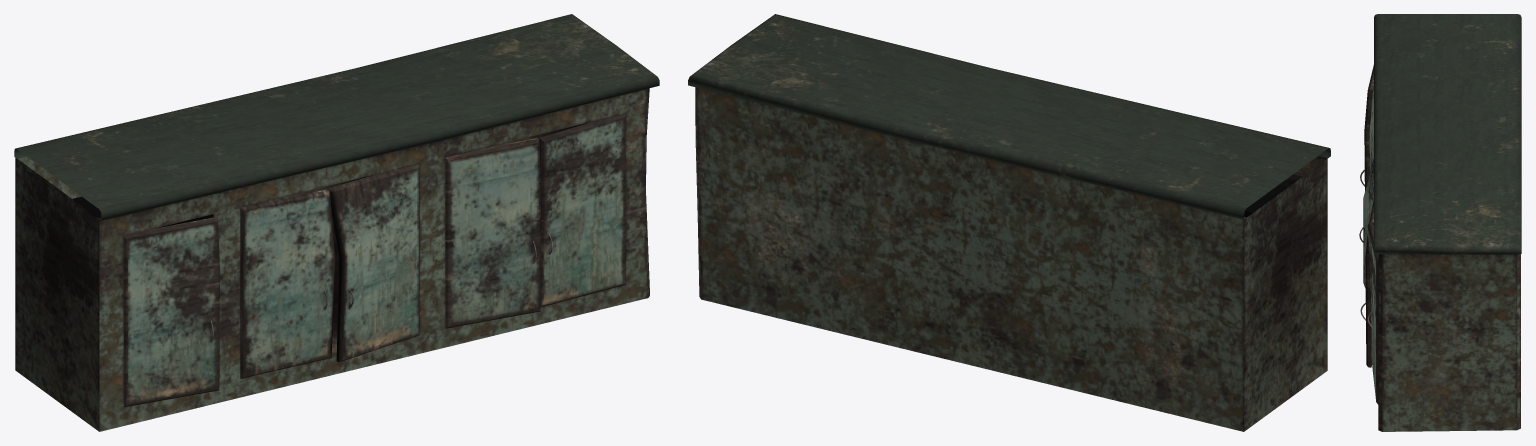
Rendered from ThreeDoorStorage.FBX.
The picture shows the model from 3 angles, left to right: view 1: azimuth 30°, elevation 25°; view 2: azimuth 150°, elevation 25°; view 3: azimuth 270°, elevation 25°; orthographic projection. The views are drawn at different scales.
Parts seen in each view (by area): view 1: ThreeDoorStorage, ThreeDoor_01, ThreeDoor_04, ThreeDoor_02, ThreeDoor_03, ThreeDoor_05; view 2: ThreeDoorStorage; view 3: ThreeDoorStorage, ThreeDoor_05, ThreeDoor_01, ThreeDoor_04, ThreeDoor_03.
Boxes of the visible parts, left/top/right/bottom form: ThreeDoorStorage: left=14, top=14, right=659, bottom=431; ThreeDoor_01: left=123, top=217, right=219, bottom=407; ThreeDoor_04: left=445, top=138, right=541, bottom=328; ThreeDoor_02: left=240, top=189, right=335, bottom=378; ThreeDoor_03: left=327, top=164, right=419, bottom=362; ThreeDoor_05: left=539, top=113, right=625, bottom=307; ThreeDoorStorage: left=688, top=14, right=1330, bottom=431; ThreeDoorStorage: left=1374, top=14, right=1521, bottom=431; ThreeDoor_05: left=1367, top=222, right=1378, bottom=404; ThreeDoor_01: left=1360, top=65, right=1373, bottom=190; ThreeDoor_04: left=1360, top=200, right=1373, bottom=367; ThreeDoor_03: left=1359, top=159, right=1373, bottom=288.
Bounding box in the file's own units: 272 × 104 × 80.61.
